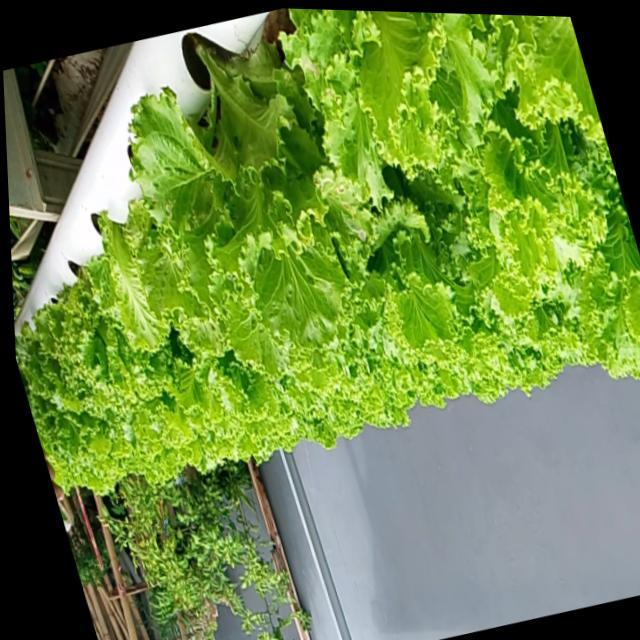Mature: (15, 8, 640, 496), (133, 25, 360, 360), (39, 242, 162, 410)
